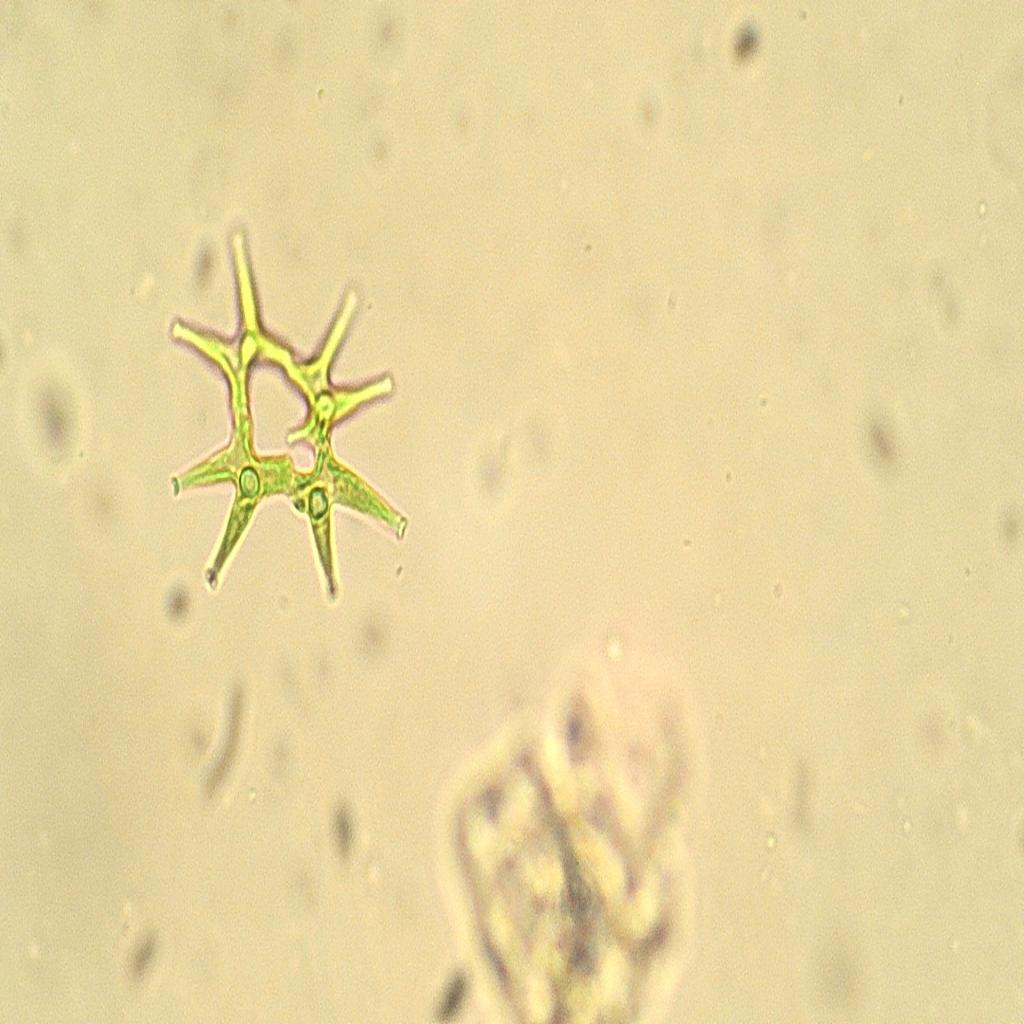Pediastrum_CF: (146, 194, 420, 646)
